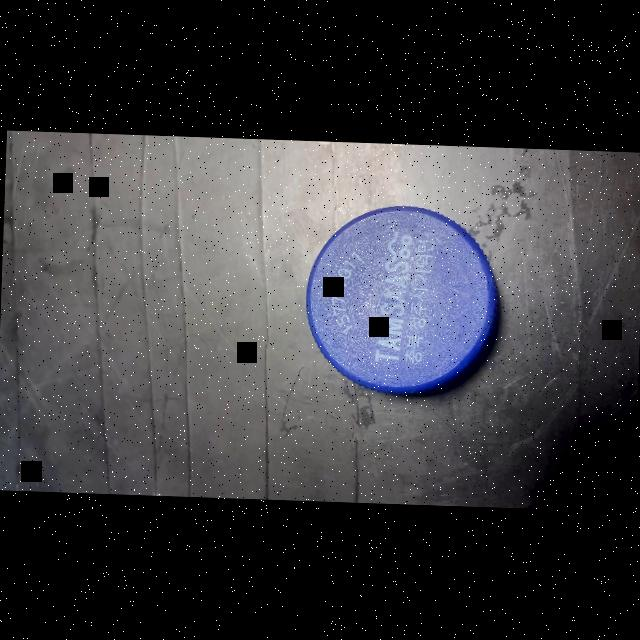plastic_bottle_cap: (299, 198, 504, 404)
